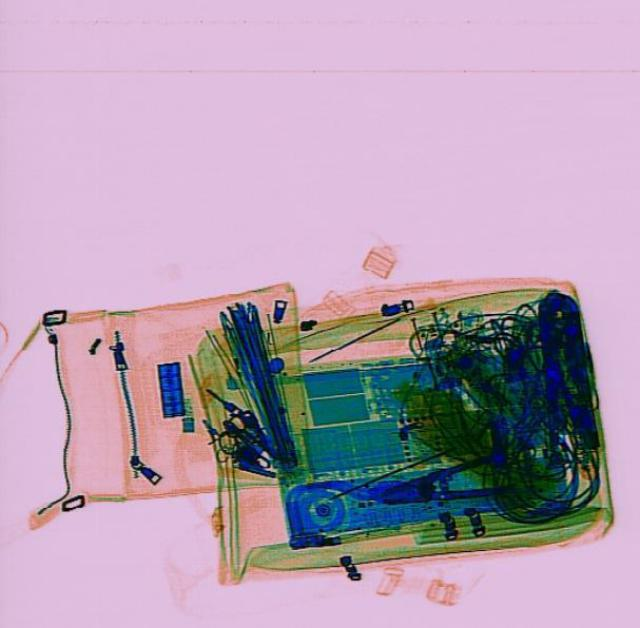Pliers: (528, 287, 600, 453), (374, 446, 514, 515)
